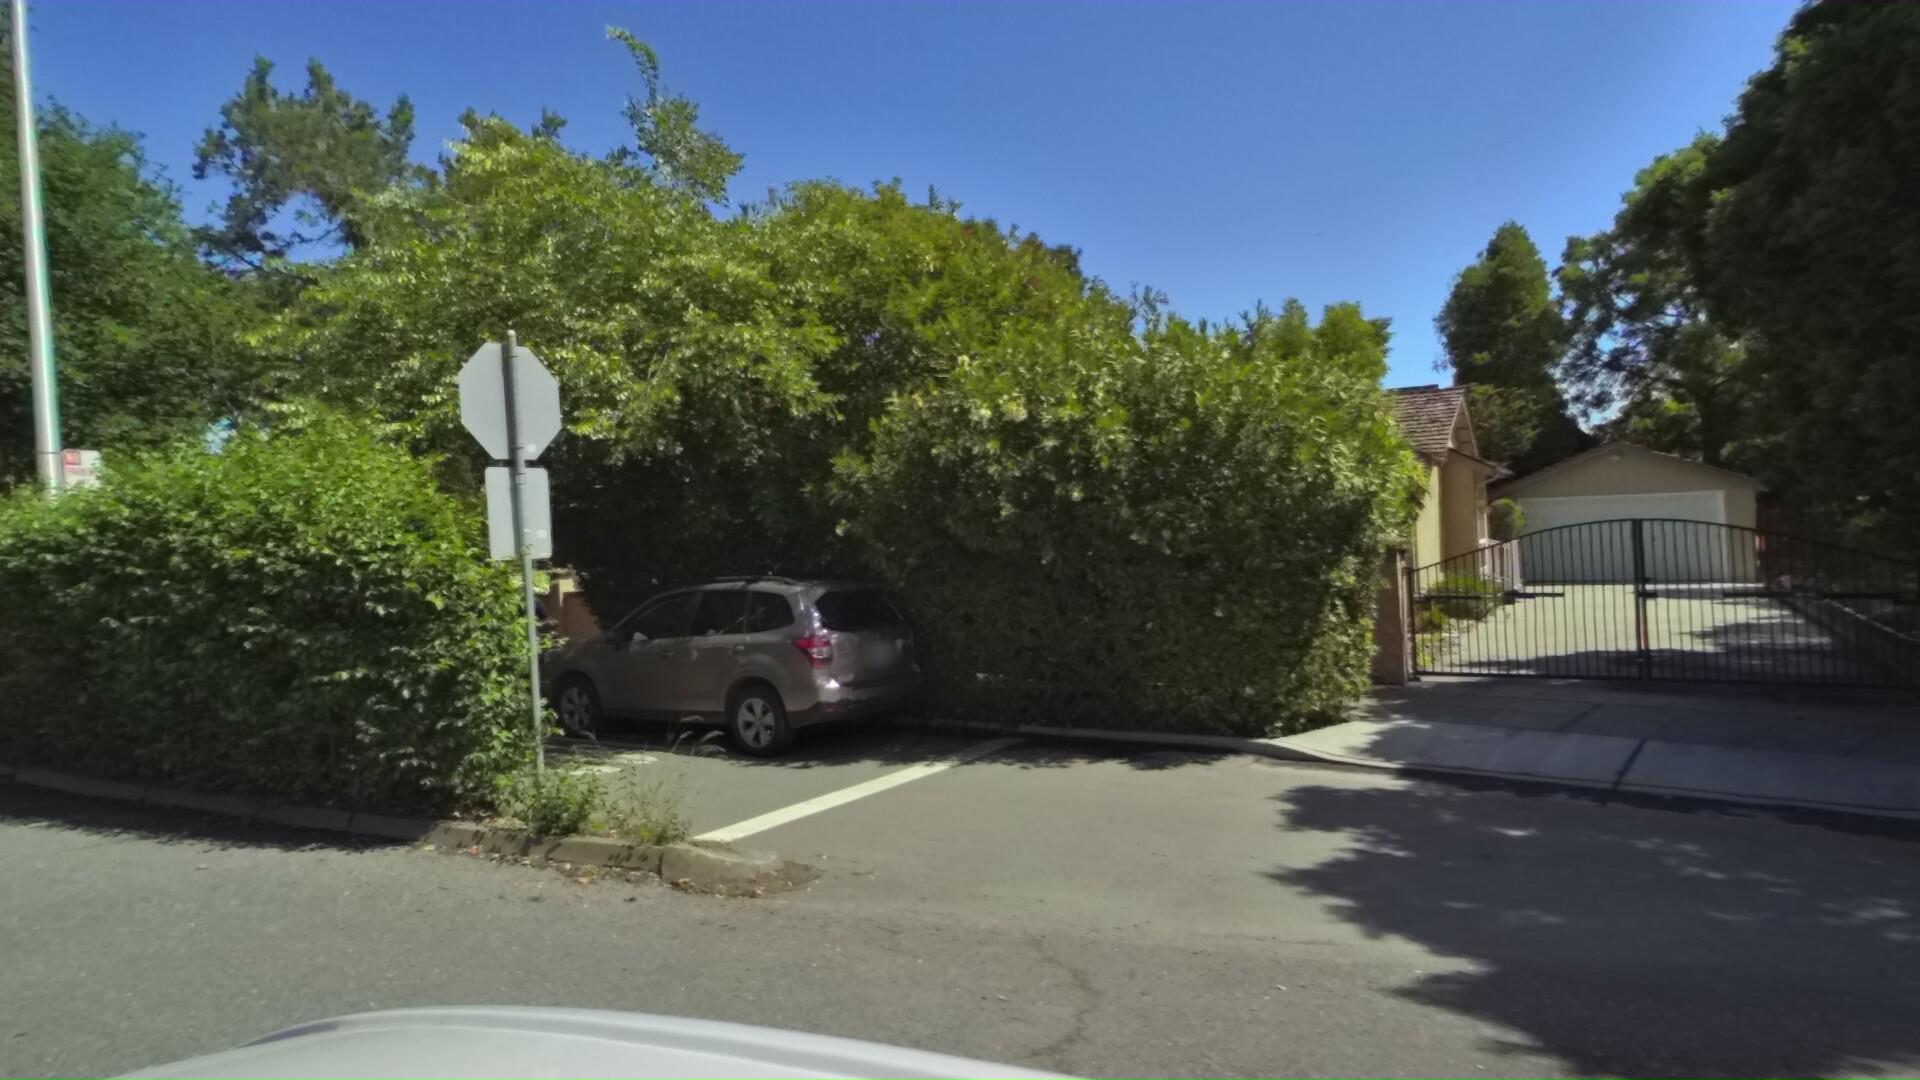car: (547, 564, 1000, 785)
